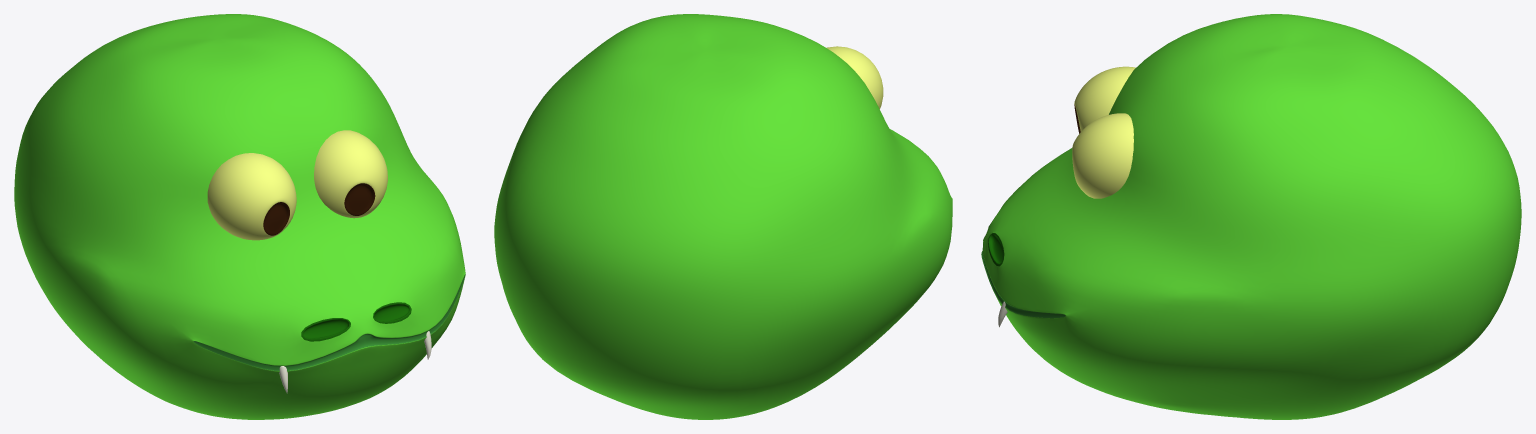
File: Head.fbx
3 renders of one model, left to right at view 1: azimuth 30°, elevation 25°; view 2: azimuth 150°, elevation 25°; view 3: azimuth 270°, elevation 25°, orthographic. The views are drawn at different scales.
Visible parts, largest first — view 1: Mr.Snake_green, RightEye.010, RightEye.009; view 2: Mr.Snake_green, RightEye.010; view 3: Mr.Snake_green, RightEye.009, RightEye.010.
Part boxes in pixels (x1,y1,x2,y2): Mr.Snake_green: [14, 14, 465, 419]; RightEye.010: [207, 153, 296, 240]; RightEye.009: [314, 130, 387, 218]; Mr.Snake_green: [494, 14, 952, 419]; RightEye.010: [826, 46, 883, 108]; Mr.Snake_green: [981, 14, 1521, 419]; RightEye.009: [1072, 113, 1133, 198]; RightEye.010: [1074, 66, 1135, 133].
Bounding box in the file's own units: 204 × 189 × 259.
